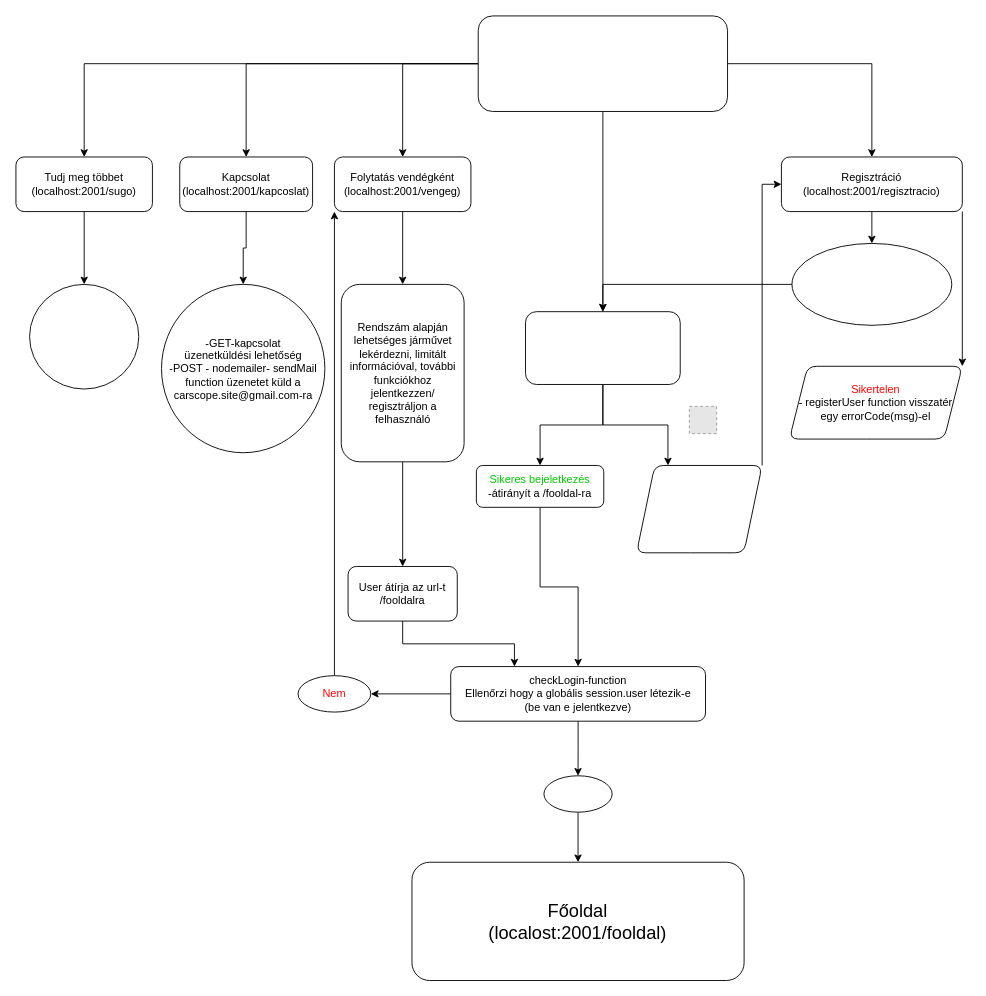
Image size: 986x996. Some labels were removed from this diagram. Grey dashed boxes stand in for pictures. Here are the shapes that lost their labels. From the top down, the centre of each, then its label:
At [602,63]: "Nyitó oldal (elérés: localhost:2001/ )".
At [871,284]: "Sikeres kitöltés Redirect: localhost:2001/bejelentkezes".
At [84,336]: "GET- sugo információk az oldalunkról".
At [602,347]: "Bejelentkezés (localhost:2001/bejelentkezes)".
At [699,509]: "Sikertelen -loginUser function errorcode - próbálja újra, vagy regisztráció".
At [577,793]: "Igen".
